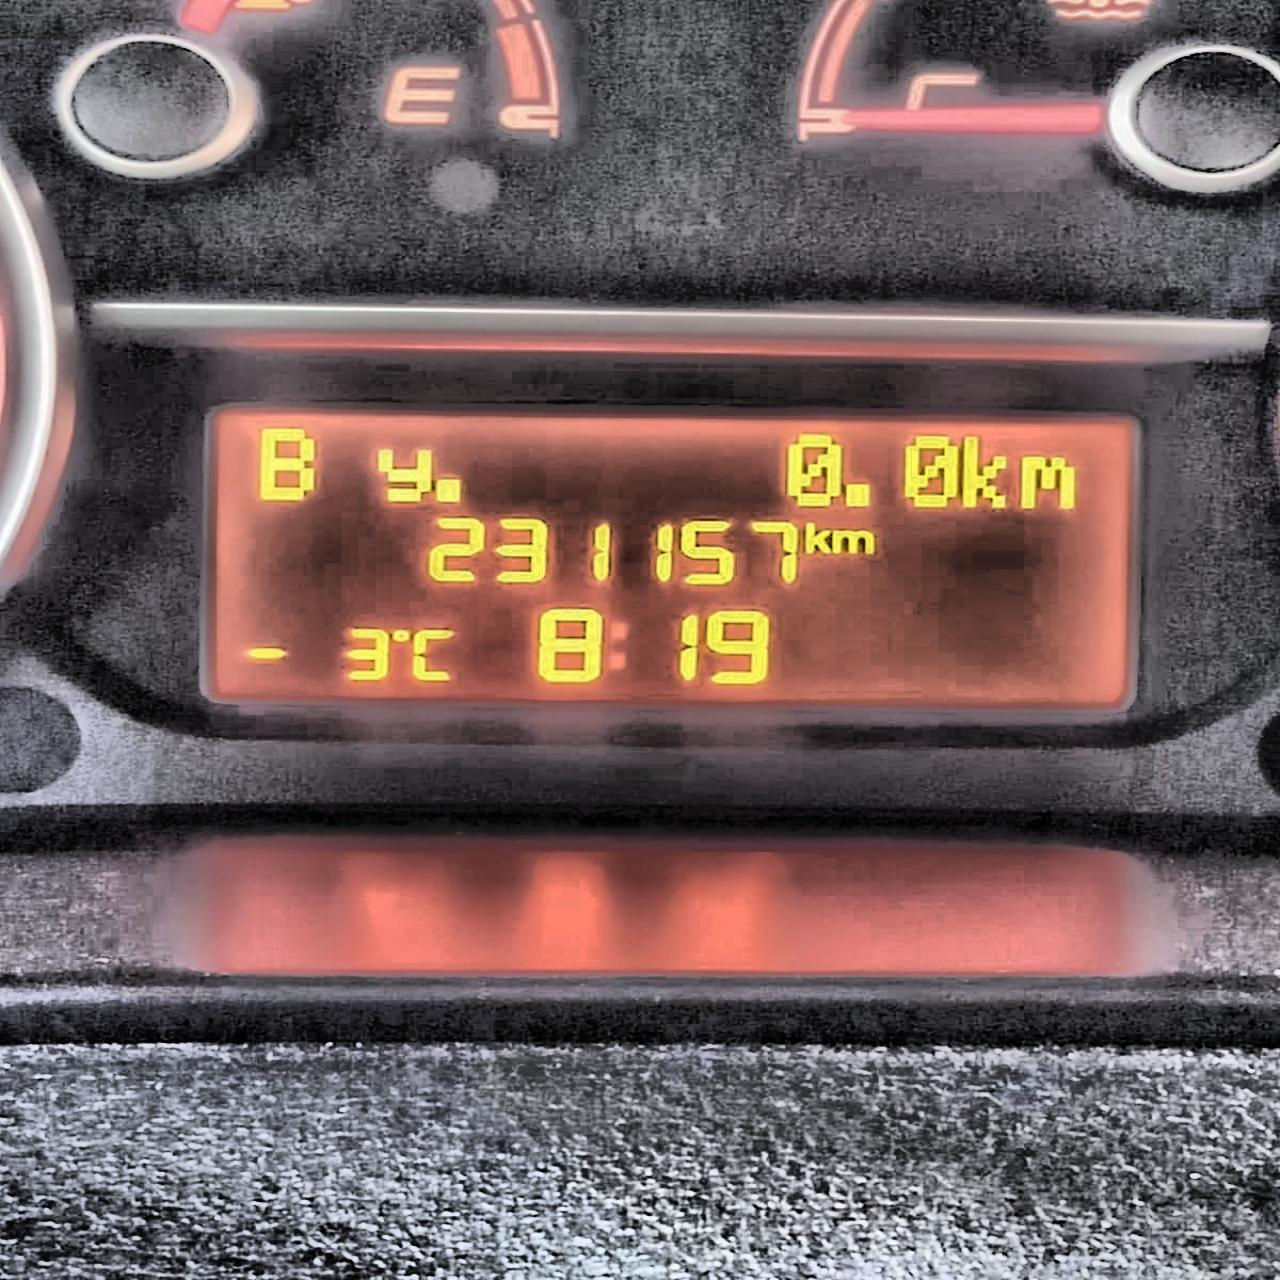-: (433, 475, 465, 505), (842, 481, 872, 508)
0: (783, 433, 843, 508), (900, 434, 959, 510)
1: (675, 613, 701, 682), (588, 520, 611, 583), (652, 523, 674, 583)
2: (424, 516, 488, 584)
3: (491, 516, 550, 584), (342, 626, 392, 681)
5: (676, 518, 737, 587)
7: (747, 519, 801, 587)
8: (533, 606, 604, 685)
9: (702, 608, 770, 686)
X: (256, 425, 318, 503), (961, 434, 1010, 510), (375, 447, 434, 504), (1017, 454, 1075, 511), (409, 627, 457, 685), (832, 529, 877, 556), (606, 620, 628, 673), (802, 519, 833, 553)
odometer: (185, 396, 1153, 722)
